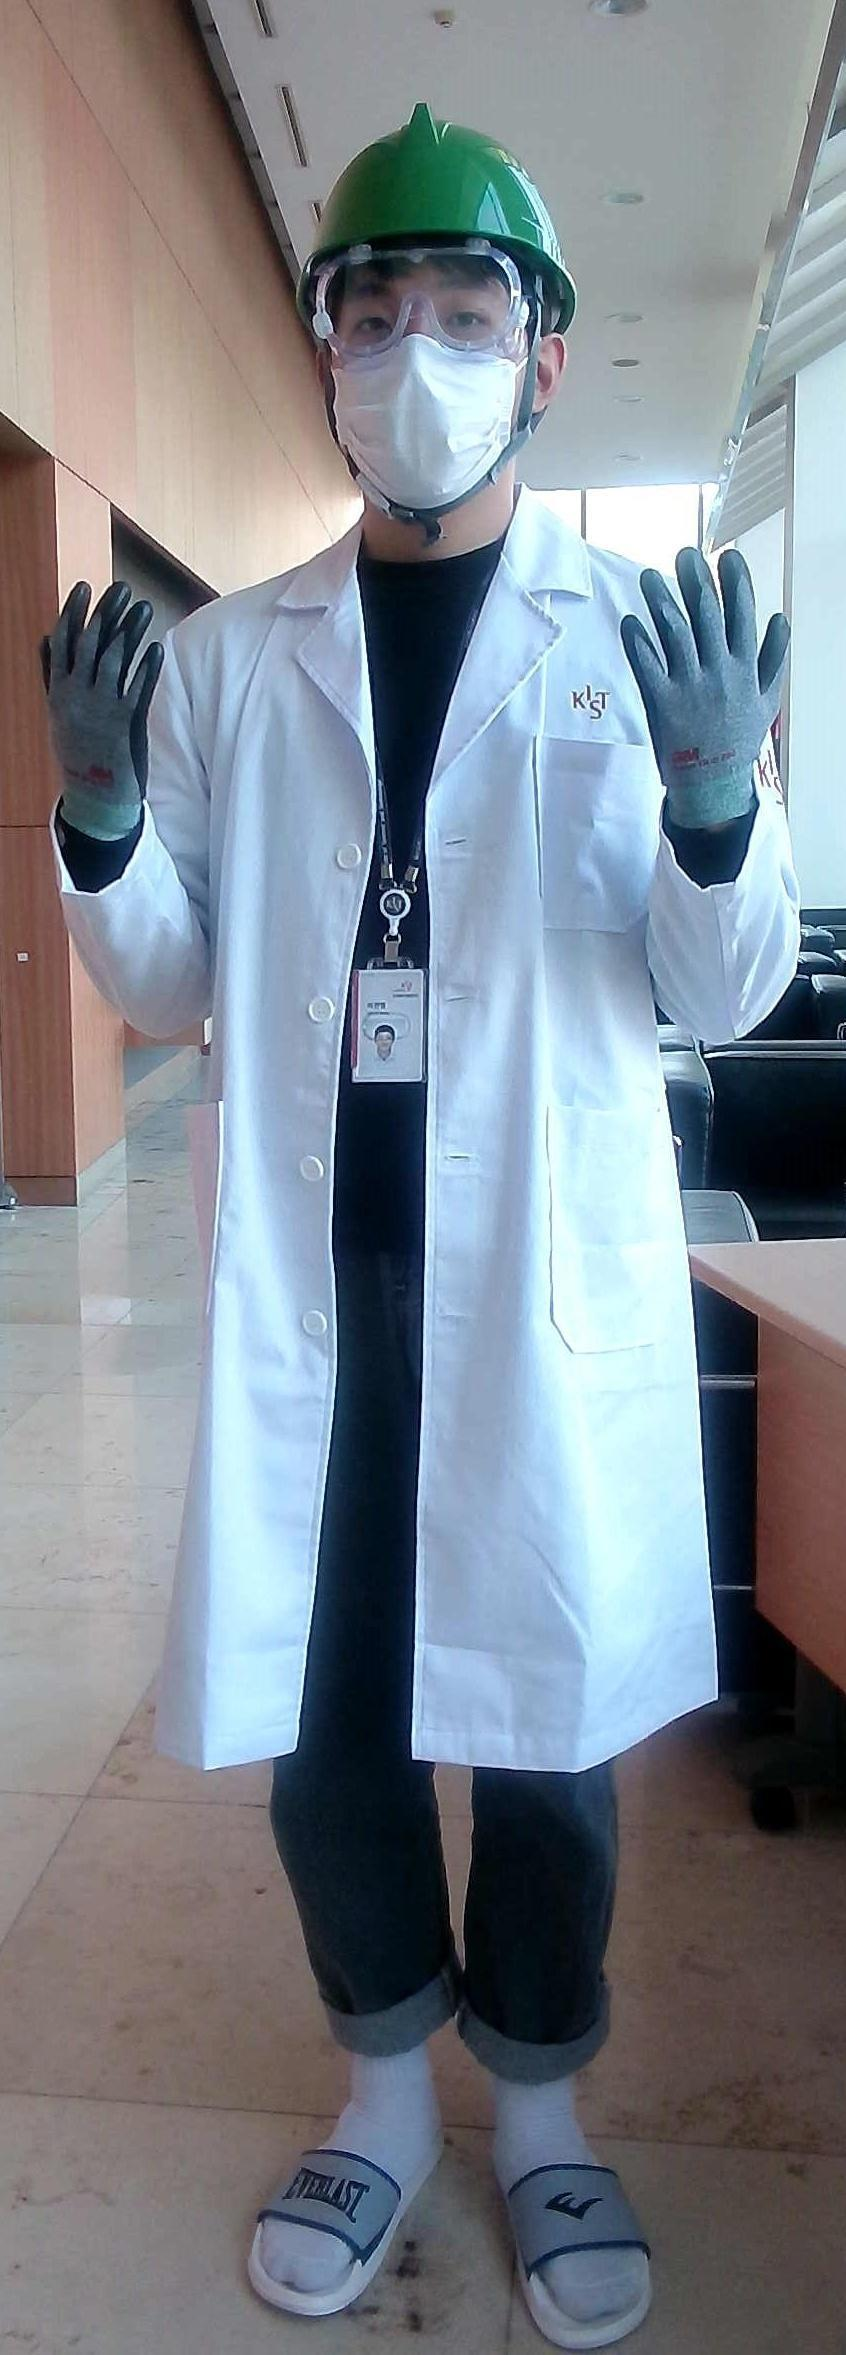lab_coat: (195, 532, 627, 1748)
